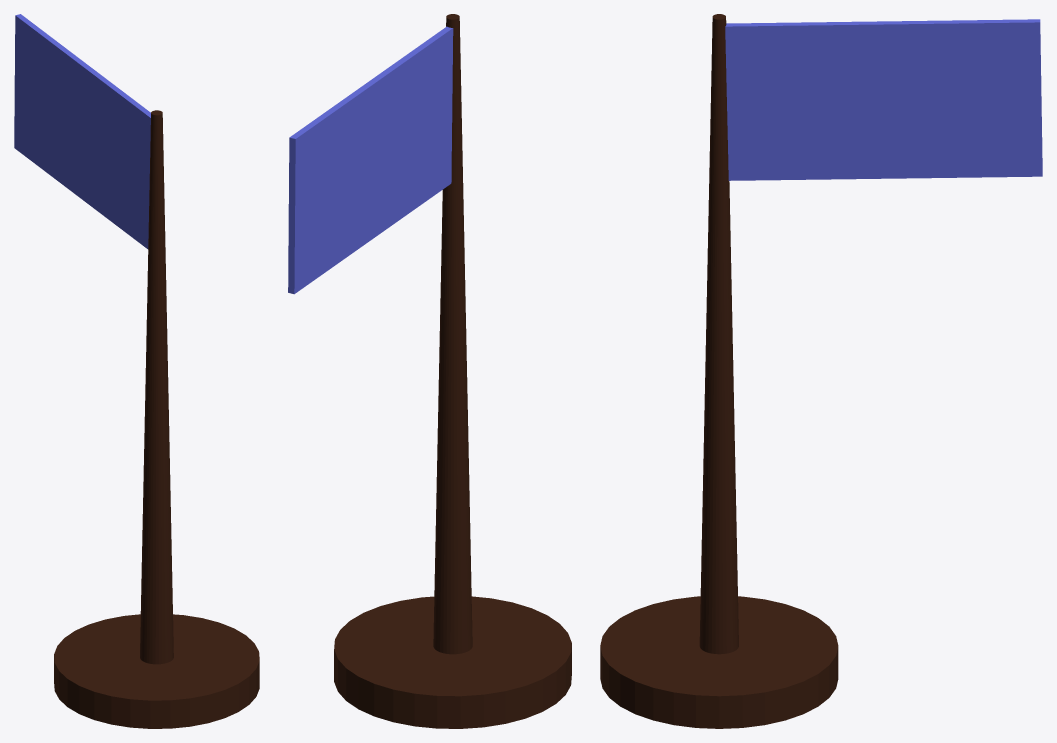
File: marker.fbx
3 renders of one model, left to right at view 1: azimuth 30°, elevation 25°; view 2: azimuth 150°, elevation 25°; view 3: azimuth 270°, elevation 25°, orthographic. The views are drawn at different scales.
Visible parts, largest first — view 1: Cylinder, Cube; view 2: Cylinder, Cube; view 3: Cube, Cylinder.
Part boxes in pixels (x1,y1,x2,y2): Cylinder: (54,110,259,728); Cube: (14,14,150,249); Cylinder: (334,14,571,728); Cube: (288,26,453,294); Cube: (725,19,1042,180); Cylinder: (600,14,838,728).
Bounding box in the file's own units: 280 × 858 × 520.
